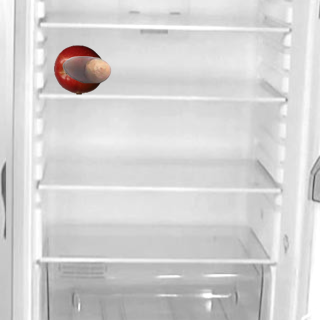Apple Braeburn: (53, 44, 103, 94)
Hazelnut: (61, 44, 111, 94)
